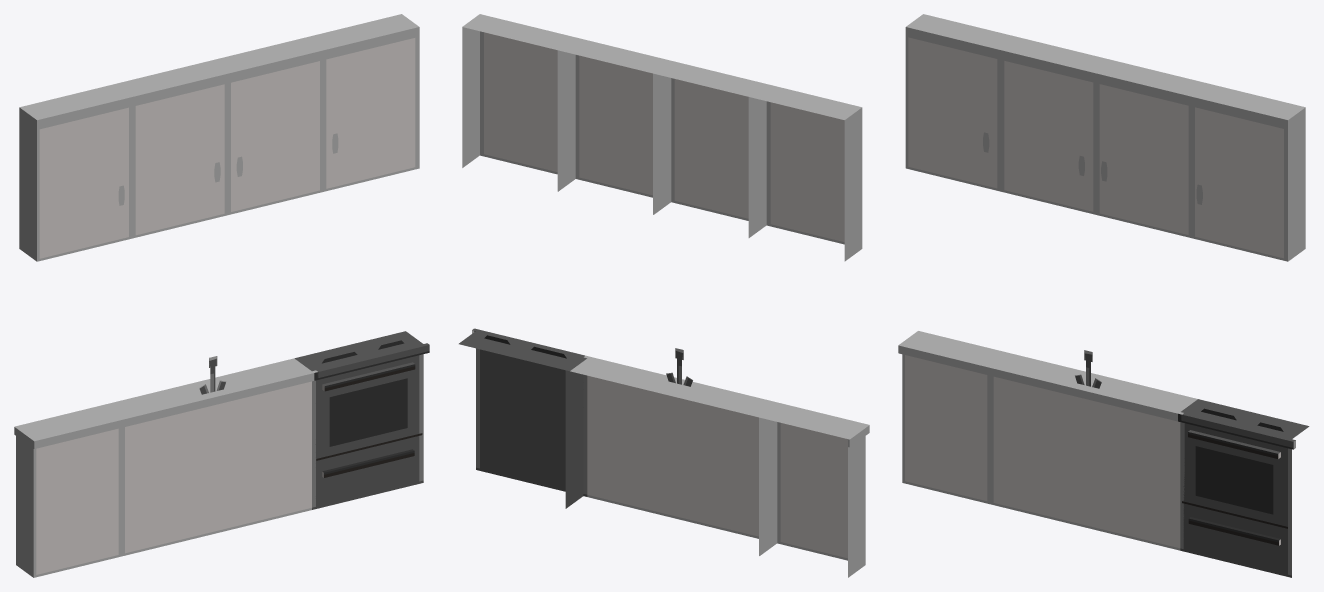
Rendered from kitchen_furniture.FBX.
The picture shows the model from 3 angles, left to right: view 1: azimuth 30°, elevation 25°; view 2: azimuth 150°, elevation 25°; view 3: azimuth 330°, elevation 25°; orthographic projection.
Visible parts, largest first — view 1: kitchenfurniture01; view 2: kitchenfurniture01; view 3: kitchenfurniture01.
Boxes of the visible parts, box(x1,y1,x2,y2) form: kitchenfurniture01: box(14, 14, 429, 577); kitchenfurniture01: box(459, 14, 869, 577); kitchenfurniture01: box(898, 14, 1309, 577).
Size of the model in its own units: 309 by 341 by 27.61.
Materials: 1 (1 with a texture image).
